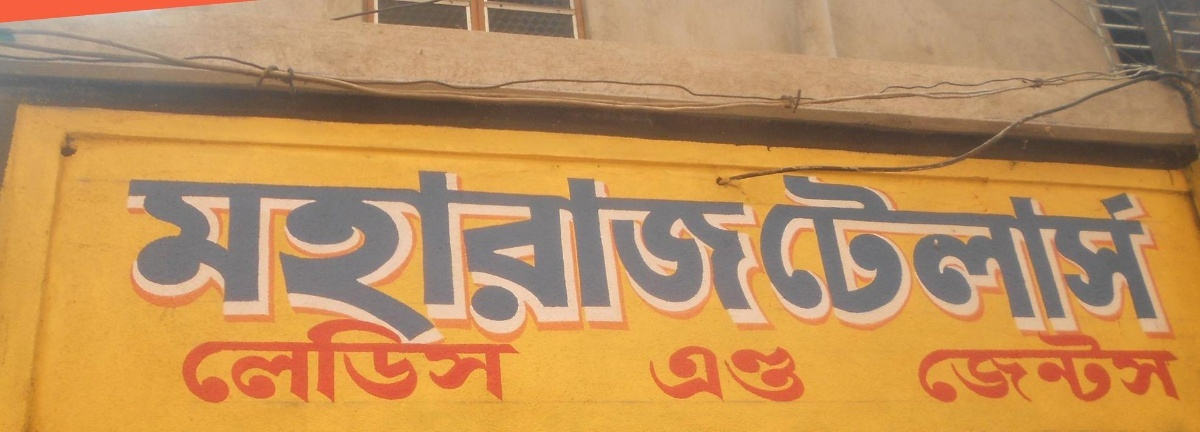text: (129, 160, 144, 342), (145, 160, 160, 342), (161, 160, 176, 342), (177, 160, 192, 342), (193, 160, 208, 342), (209, 160, 224, 342), (225, 160, 240, 342), (241, 160, 256, 342), (257, 160, 272, 342), (273, 160, 288, 342), (289, 160, 304, 342), (305, 160, 320, 342), (321, 160, 336, 342), (337, 160, 352, 342), (353, 160, 368, 342), (369, 160, 384, 342), (385, 160, 400, 342), (401, 160, 416, 342), (417, 160, 432, 342), (433, 160, 448, 342), (449, 160, 464, 342), (465, 160, 480, 342), (481, 160, 496, 342), (497, 160, 512, 342), (513, 160, 528, 342), (529, 160, 544, 342), (545, 160, 560, 342), (561, 160, 576, 342), (577, 160, 592, 342), (593, 160, 608, 342), (609, 160, 624, 342), (625, 160, 640, 342), (641, 160, 656, 342), (657, 160, 672, 342), (673, 160, 688, 342), (689, 160, 704, 342), (705, 160, 720, 342), (721, 160, 736, 342), (737, 160, 752, 342), (753, 160, 768, 342), (769, 172, 784, 338), (785, 172, 800, 338), (801, 172, 816, 338), (817, 172, 832, 338), (833, 172, 848, 338), (849, 172, 864, 338), (865, 172, 880, 338), (881, 172, 896, 338), (897, 172, 912, 338), (913, 172, 928, 338), (929, 172, 944, 338), (945, 172, 960, 338), (961, 172, 976, 338), (977, 172, 992, 338), (993, 172, 1008, 338), (1009, 172, 1024, 338), (1025, 172, 1040, 338), (1041, 172, 1056, 338), (1057, 172, 1072, 338), (1073, 172, 1088, 338), (1089, 172, 1104, 338), (1105, 172, 1120, 338), (1121, 172, 1136, 338), (1137, 172, 1152, 338), (1153, 172, 1168, 338), (758, 172, 768, 338), (193, 318, 208, 405), (209, 318, 224, 405), (225, 318, 240, 405), (241, 318, 256, 405), (257, 318, 272, 405), (273, 318, 288, 405), (289, 318, 304, 405), (305, 318, 320, 405), (321, 318, 336, 405), (337, 318, 352, 405), (353, 318, 368, 405), (369, 318, 384, 405), (385, 318, 400, 405), (401, 318, 416, 405), (417, 318, 432, 405), (433, 318, 448, 405), (449, 318, 464, 405), (465, 318, 480, 405), (481, 318, 496, 405), (497, 318, 512, 405), (929, 330, 944, 405), (945, 330, 960, 405), (961, 330, 976, 405), (977, 330, 992, 405), (993, 330, 1008, 405), (1009, 330, 1024, 405), (1025, 330, 1040, 405), (1041, 330, 1056, 405), (1057, 330, 1072, 405), (1073, 330, 1088, 405), (1089, 330, 1104, 405), (1105, 330, 1120, 405), (1121, 330, 1136, 405), (1137, 330, 1152, 405), (1153, 330, 1168, 405), (769, 160, 774, 342), (657, 344, 672, 404), (673, 344, 688, 404), (689, 344, 704, 404), (705, 344, 720, 404), (721, 344, 736, 404), (737, 344, 752, 404), (753, 344, 768, 404), (769, 344, 784, 404), (785, 344, 800, 404), (1169, 172, 1174, 338), (1169, 330, 1180, 405), (183, 318, 192, 405), (513, 318, 521, 405), (646, 344, 656, 404), (923, 330, 928, 405), (126, 160, 128, 342), (801, 344, 807, 404)
